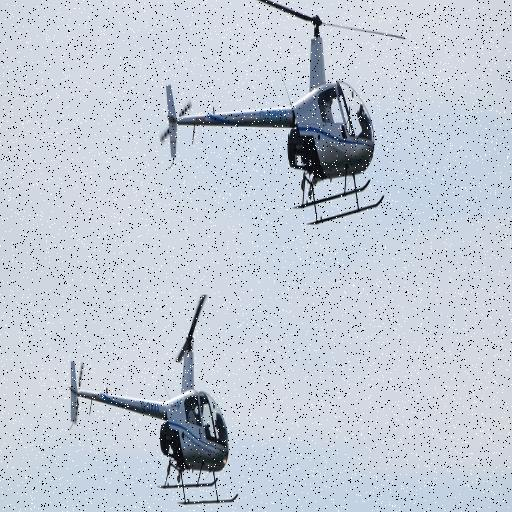helicopter: (160, 1, 408, 228), (69, 296, 246, 510)
